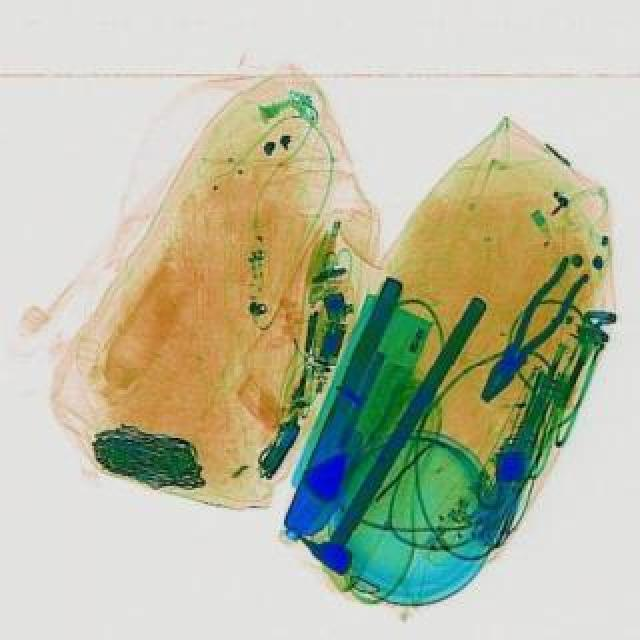wrench: (466, 252, 592, 408)
